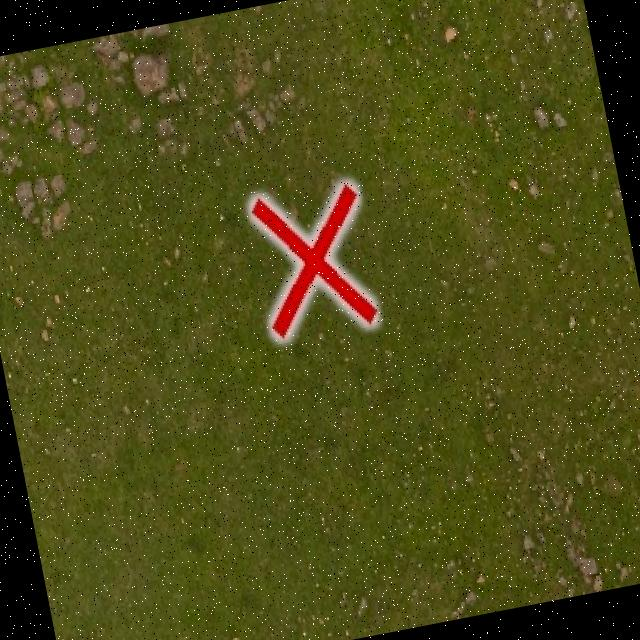x_marker: (247, 179, 380, 341)
